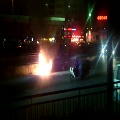fire: (33, 52, 52, 77)
